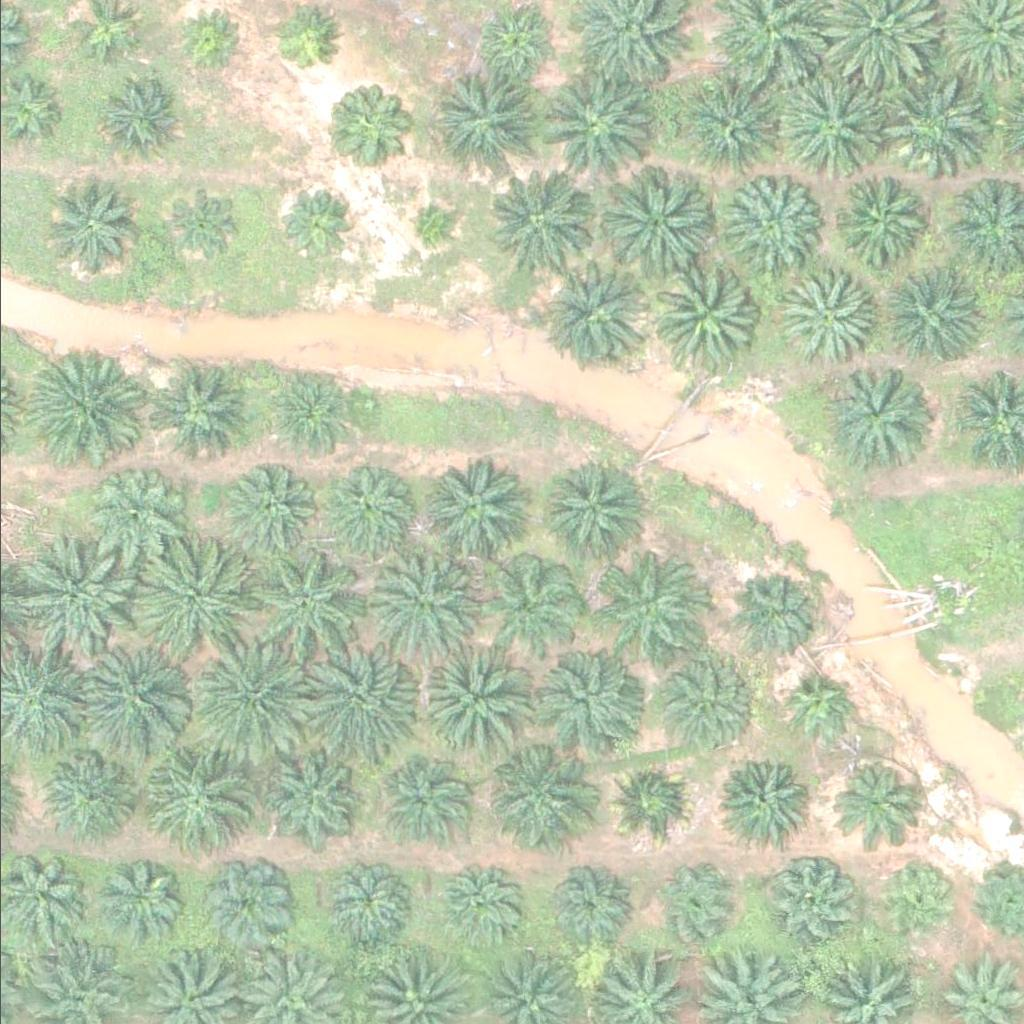Kelapa_Sawit: (31, 353, 145, 466), (15, 537, 128, 650), (194, 646, 307, 759), (305, 646, 418, 759), (423, 645, 536, 758), (538, 646, 651, 759), (363, 543, 476, 656), (134, 545, 247, 658), (598, 162, 711, 275), (481, 159, 594, 272), (881, 67, 994, 180), (79, 650, 193, 762), (538, 66, 652, 178), (779, 70, 893, 182), (479, 742, 592, 854), (129, 744, 242, 856), (249, 550, 362, 662), (646, 258, 759, 370), (538, 255, 651, 367), (429, 71, 542, 183), (38, 174, 139, 274), (193, 853, 294, 953), (253, 745, 354, 845), (593, 547, 694, 647), (481, 553, 582, 653), (327, 459, 428, 559), (419, 459, 520, 559), (545, 465, 646, 565), (147, 361, 248, 461), (821, 362, 922, 462), (772, 269, 873, 369), (827, 167, 928, 267), (719, 174, 820, 274), (315, 854, 415, 954), (659, 654, 759, 754), (85, 466, 185, 566), (226, 462, 326, 562), (871, 267, 971, 367), (682, 81, 782, 181), (156, 183, 245, 271), (40, 748, 128, 836), (97, 854, 185, 942), (868, 856, 956, 944), (650, 860, 738, 948), (538, 861, 626, 949), (433, 861, 521, 949), (730, 569, 818, 657), (331, 83, 419, 171), (92, 77, 180, 165), (767, 858, 855, 945), (826, 760, 914, 847), (721, 756, 809, 843), (275, 181, 363, 268), (603, 756, 691, 843), (382, 753, 470, 840), (272, 368, 360, 455), (776, 672, 852, 747), (267, 3, 342, 78), (171, 3, 246, 78), (398, 200, 448, 250)
